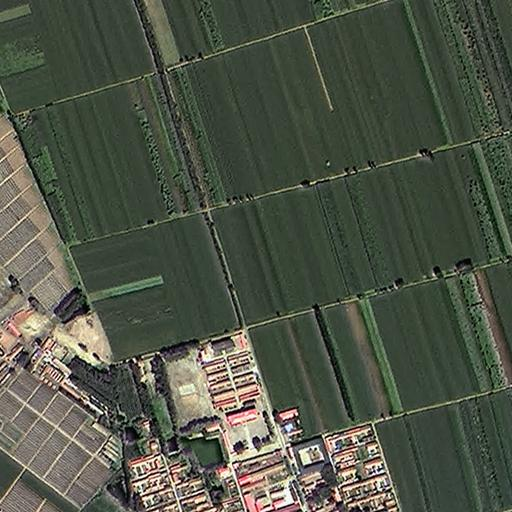school: (165, 328, 282, 453)
